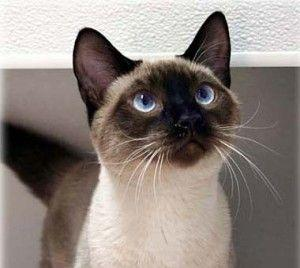siamese: (71, 11, 251, 201)
